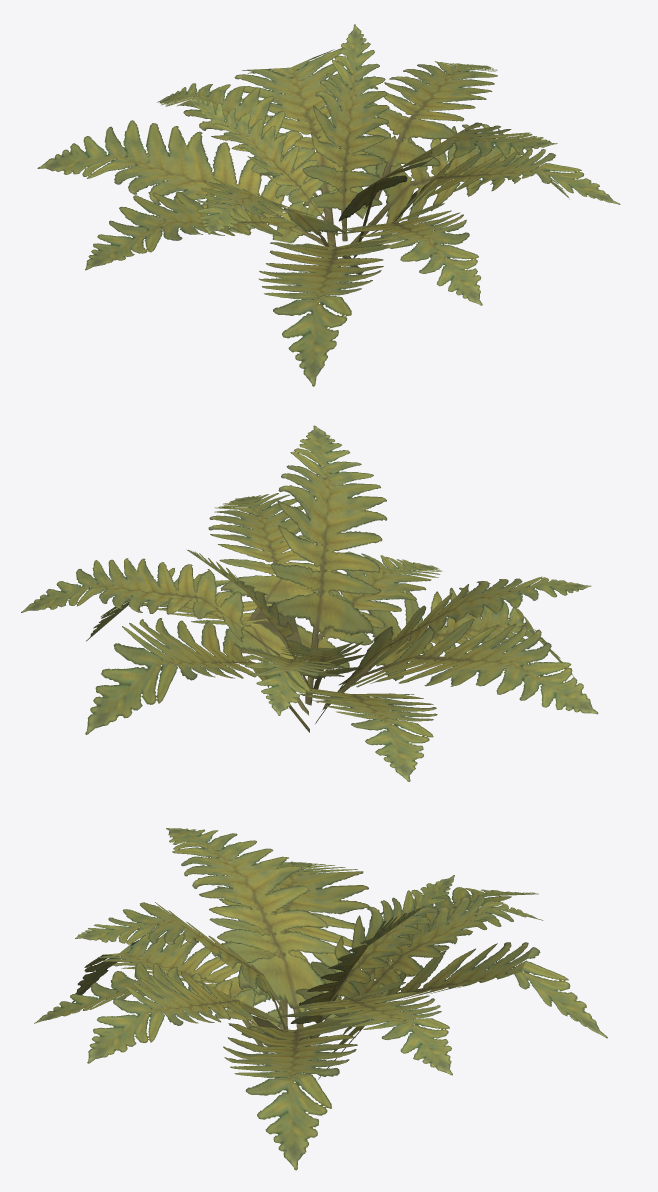
Rendered from Map_11_grass01.FBX.
3 renders of one model, top to bottom at view 1: azimuth 30°, elevation 25°; view 2: azimuth 150°, elevation 25°; view 3: azimuth 270°, elevation 25°, orthographic. The views are drawn at different scales.
Visible parts, largest first — view 1: Map_11_grass01; view 2: Map_11_grass01; view 3: Map_11_grass01.
Boxes of the visible parts, left/top/right/bottom form: Map_11_grass01: left=37, top=24, right=620, bottom=386; Map_11_grass01: left=21, top=425, right=598, bottom=781; Map_11_grass01: left=34, top=828, right=607, bottom=1170.
Bounding box in the file's own units: 210 × 206 × 81.18.
